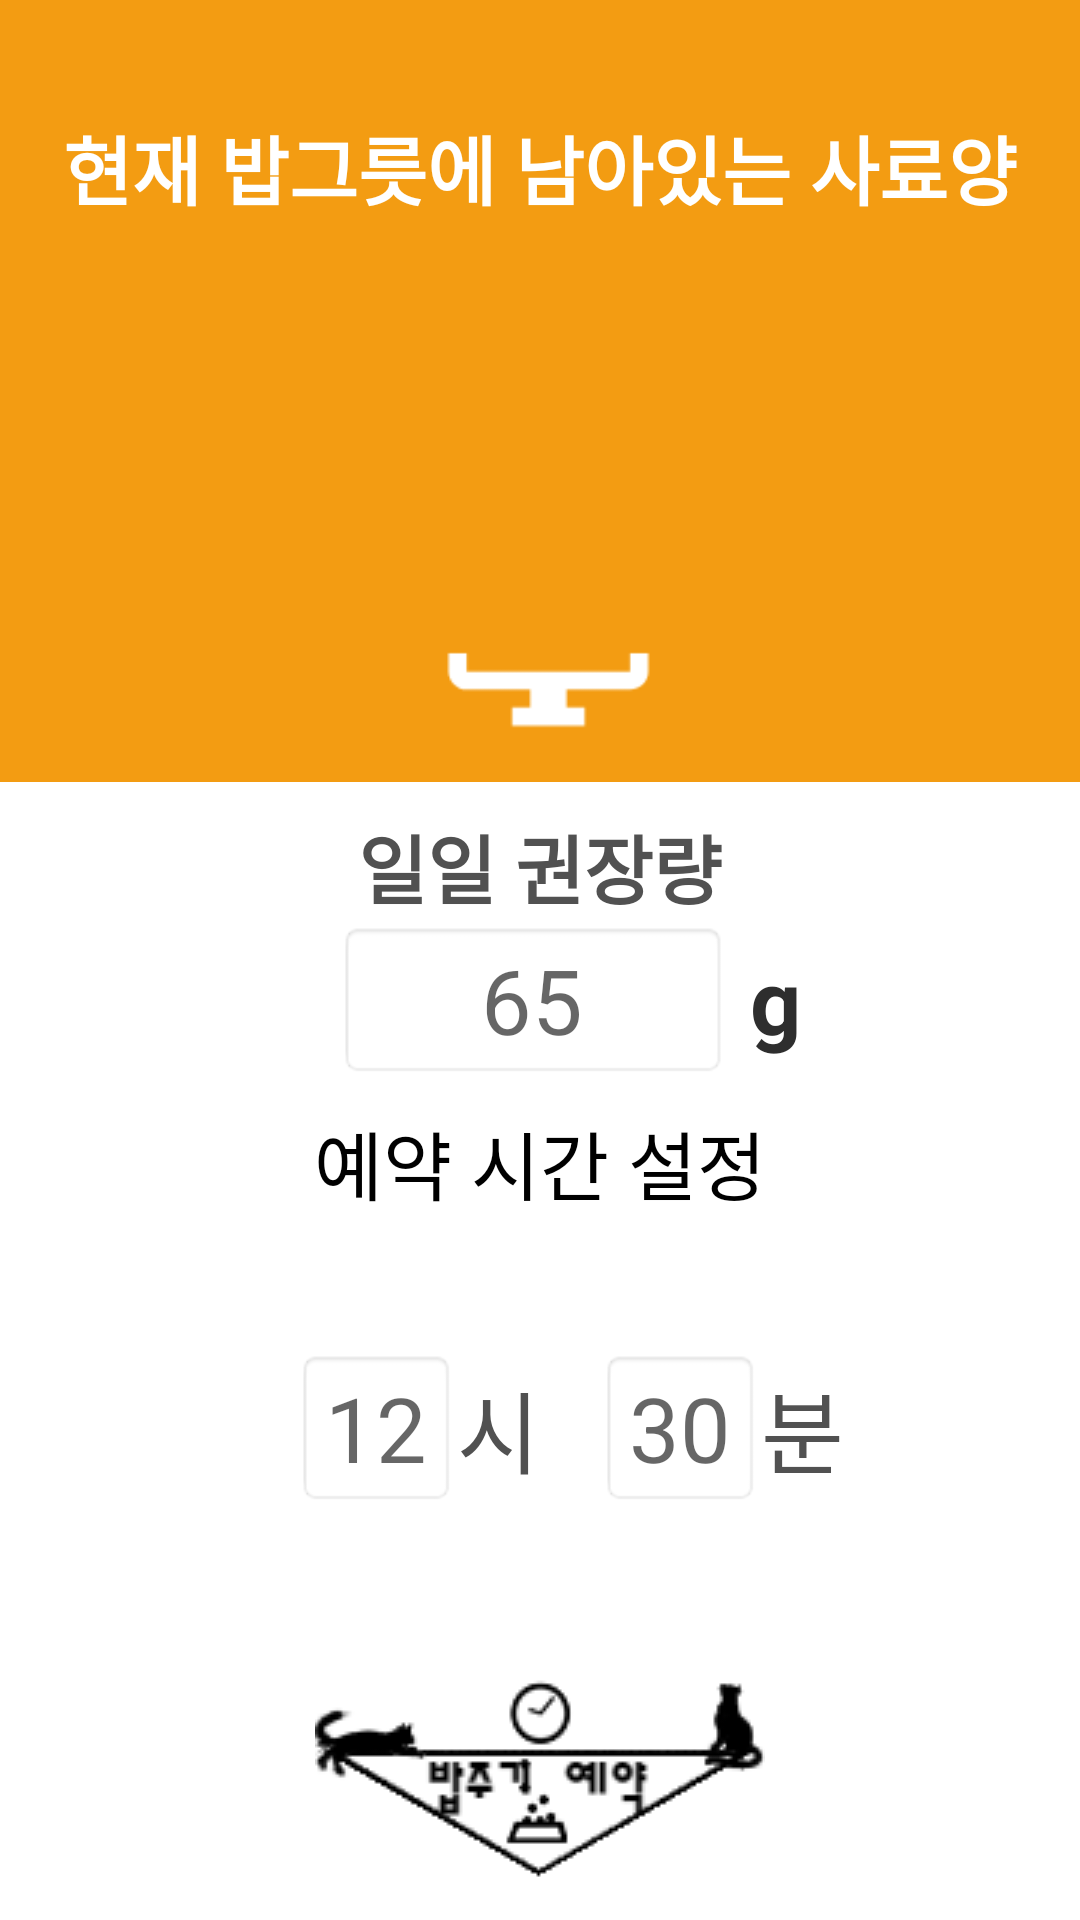

Point at icon controls on the screen. Image size 1080 × 1920, points as point (x, y).
bowlorange: point (548, 689)
